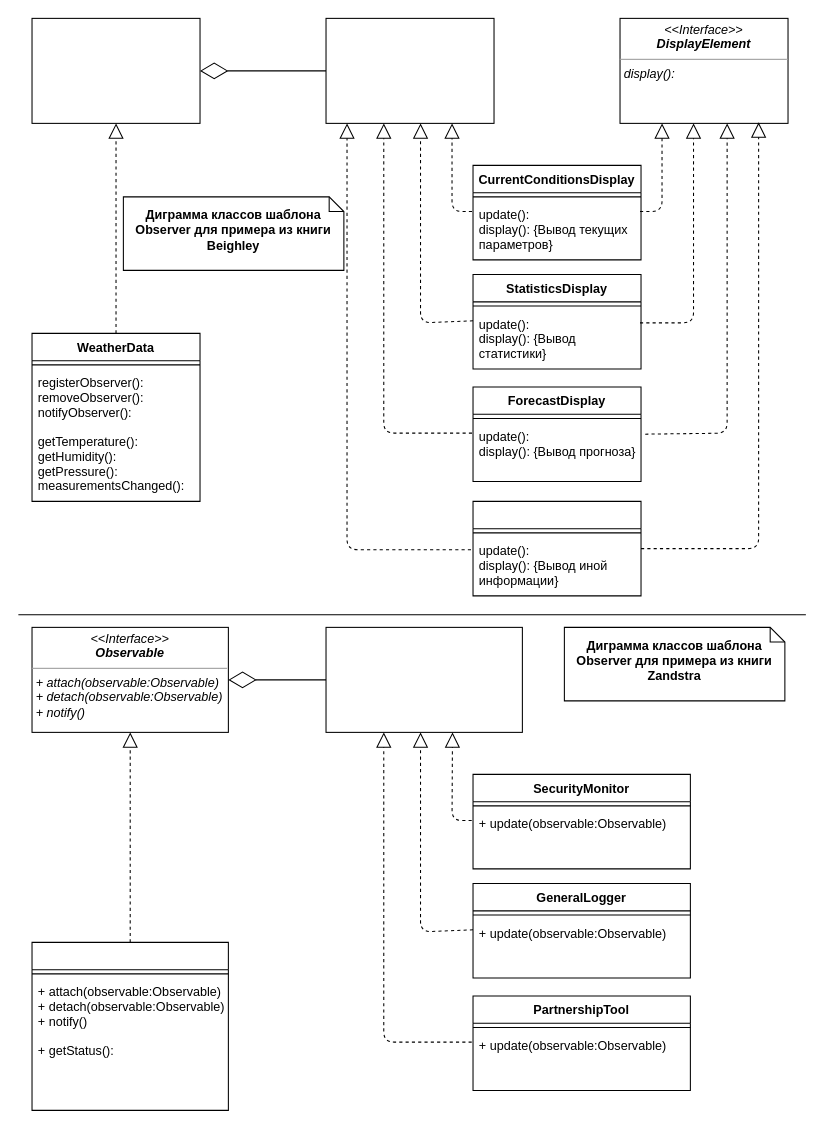
This 824x1132 diagram has some shape labels left out. The shapes that lost their labels are listed below. From the top down, each one's box as (x1, y1, x2, y2) in pixels, then its label:
(31, 17, 200, 123): <<Interface>> Subject registerObserver(): removeObserver(): nitufyObserver():
(325, 17, 494, 123): <<Interface>> Observer update():
(472, 500, 641, 596): ThirdPartyDisplay
(325, 626, 522, 732): <<Interface>> Observer + update (observable:Observable)
(31, 941, 228, 1110): Login
